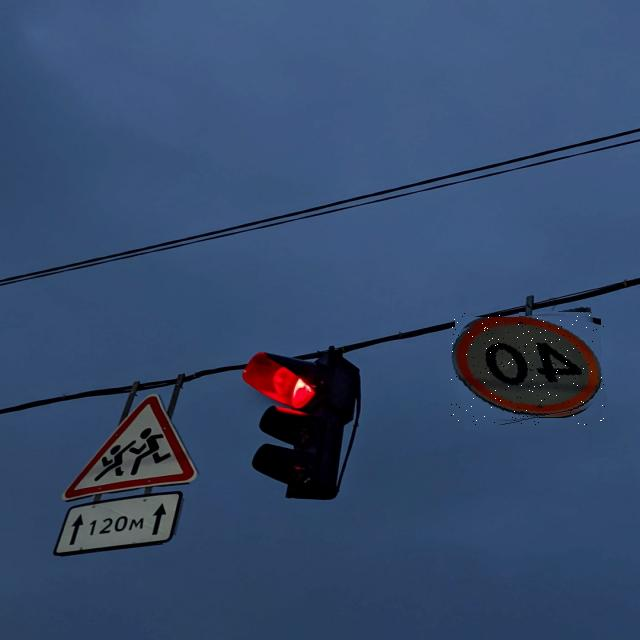speed limit 40: (451, 312, 605, 425)
